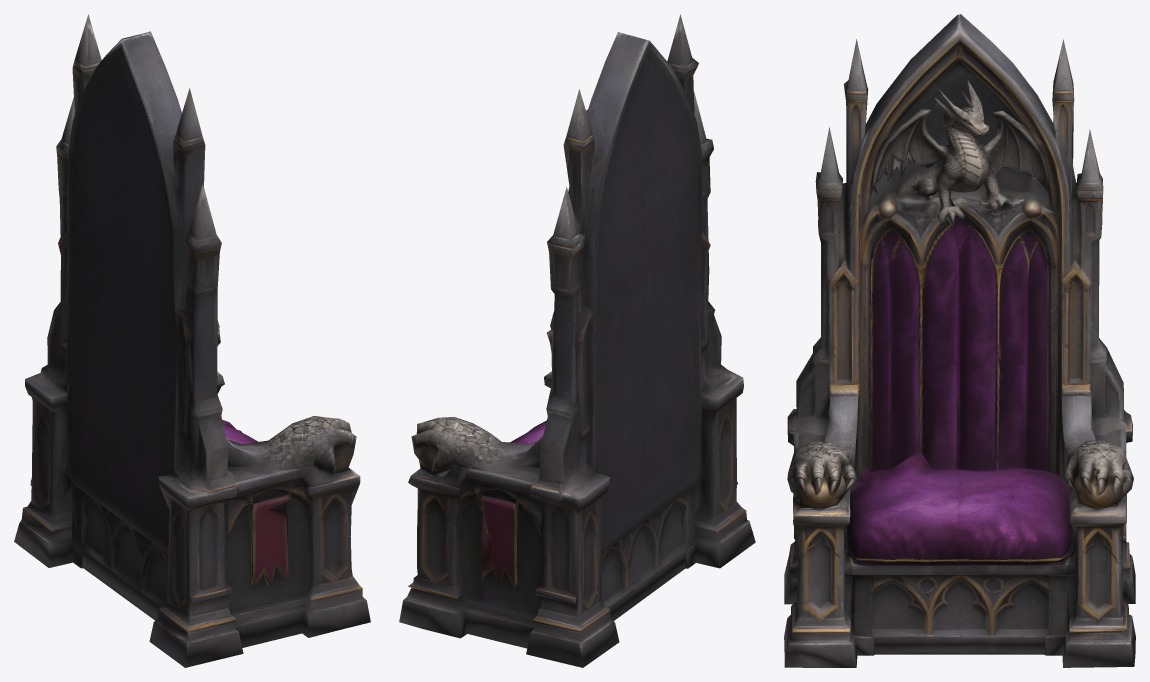
File: castle_throne_source.glb
3 views of the same model, side by side, from view 1: azimuth 30°, elevation 25°; view 2: azimuth 150°, elevation 25°; view 3: azimuth 270°, elevation 25° (orthographic). The views are drawn at different scales.
Parts seen in each view (by area): view 1: tripo_node_8c5a1a5f-7405-466c-a0ea-a3217af68496; view 2: tripo_node_8c5a1a5f-7405-466c-a0ea-a3217af68496; view 3: tripo_node_8c5a1a5f-7405-466c-a0ea-a3217af68496.
Boxes of the visible parts, x1,y1,x2,y2 form: tripo_node_8c5a1a5f-7405-466c-a0ea-a3217af68496: (14,14,370,667); tripo_node_8c5a1a5f-7405-466c-a0ea-a3217af68496: (399,14,755,667); tripo_node_8c5a1a5f-7405-466c-a0ea-a3217af68496: (784,14,1135,667).
Size of the model in its own units: 0.3404 by 0.9787 by 0.5444.
Materials: 1 (1 with a texture image).
